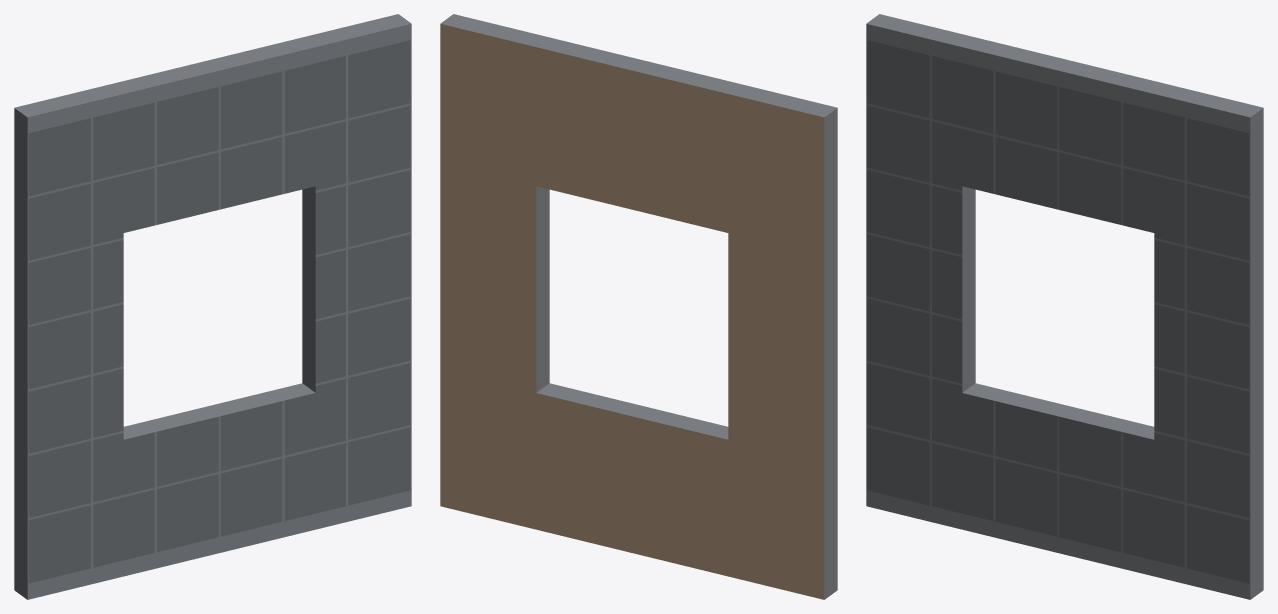
Rendered from Wall2_C7_04.fbx.
3 renders of one model, left to right at view 1: azimuth 30°, elevation 25°; view 2: azimuth 150°, elevation 25°; view 3: azimuth 330°, elevation 25°, orthographic.
Visible parts, largest first — view 1: Wall2_C7_04; view 2: Wall2_C7_04; view 3: Wall2_C7_04.
Part boxes in pixels (x1,y1,x2,y2): Wall2_C7_04: (14, 14, 411, 599); Wall2_C7_04: (440, 14, 837, 599); Wall2_C7_04: (866, 14, 1263, 599).
Size of the model in its own units: 250 by 300 by 15.
